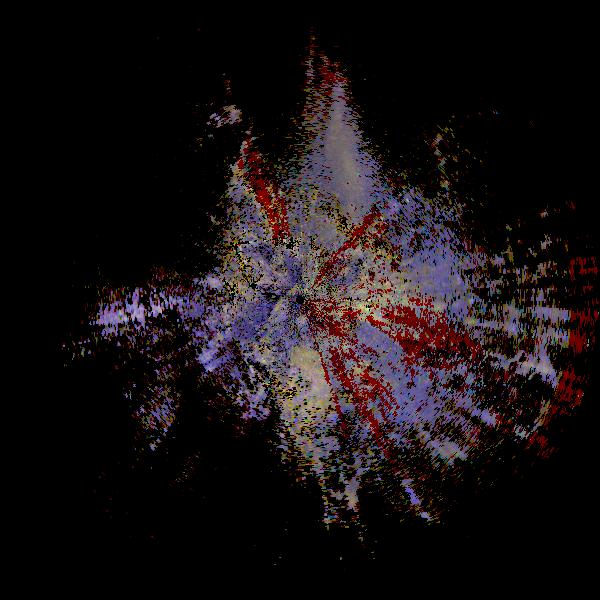roost: (261, 333, 348, 420), (496, 341, 565, 410)
